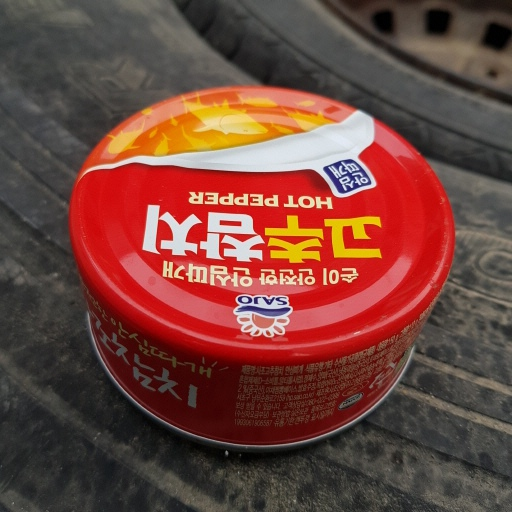Metal_1: (66, 87, 458, 451)
